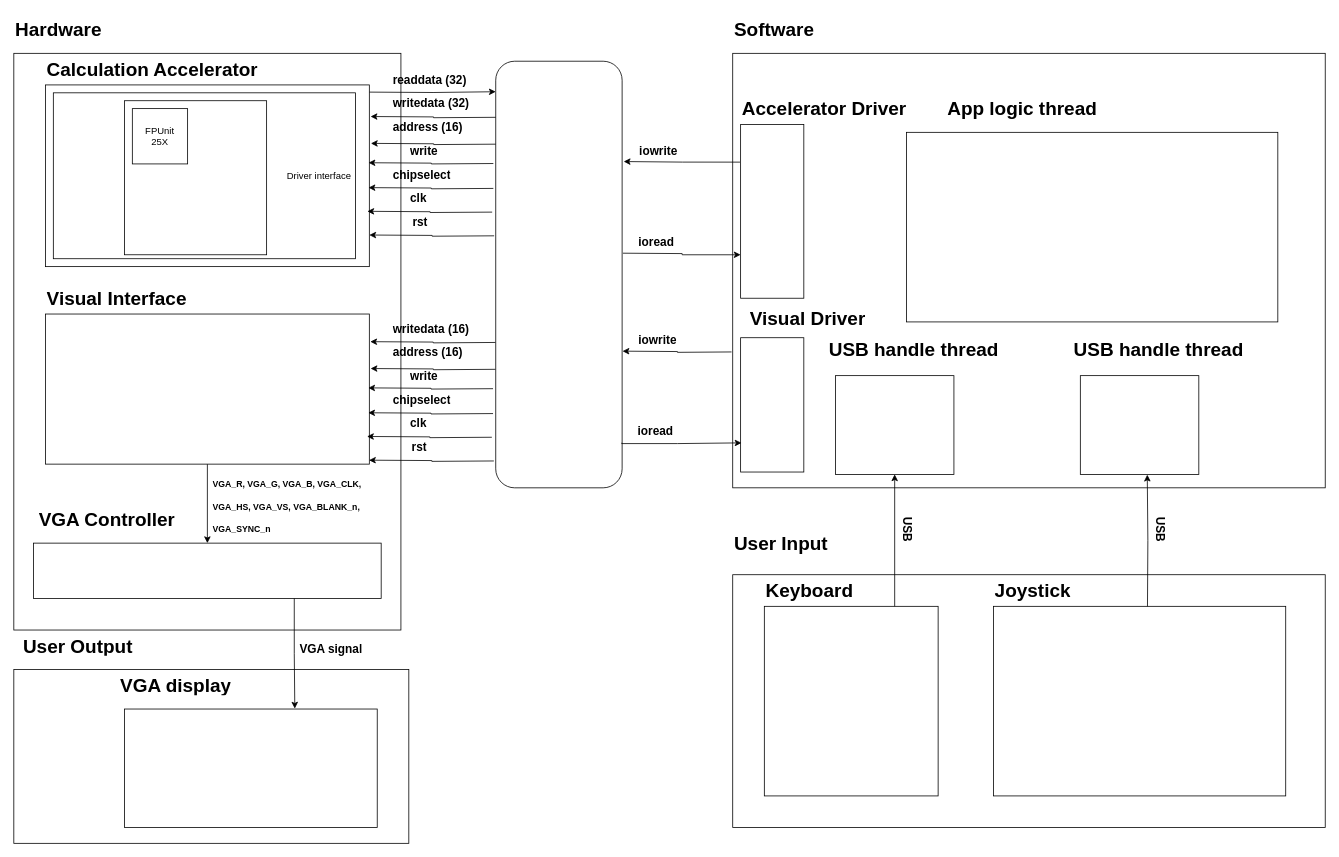
Some shapes in this 1339 by 857 pixel diagram are drawn without their labels. The box of each missing label's shape, as (x1, y1, x2, y2) in pixels:
Avalon Bus: (495, 60, 622, 488)
Logic unit: (124, 100, 267, 255)
